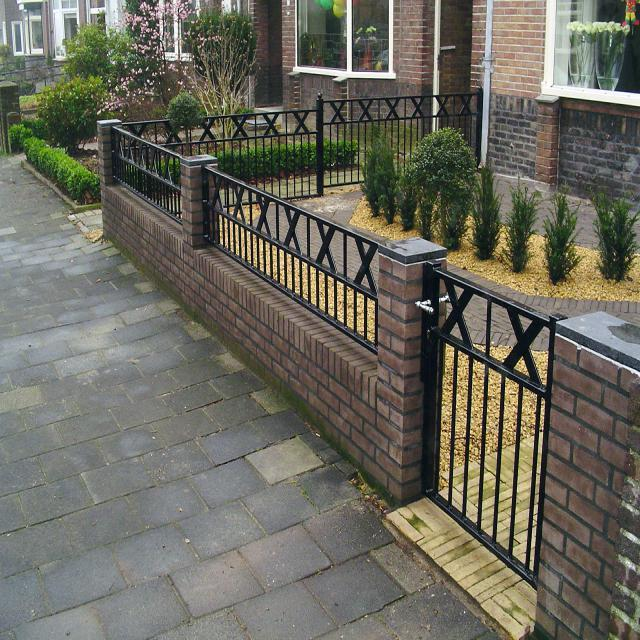fence line: (431, 281, 540, 581), (209, 195, 385, 346), (118, 130, 177, 231)
